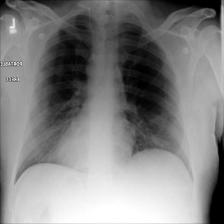normal: (13, 9, 198, 187)
